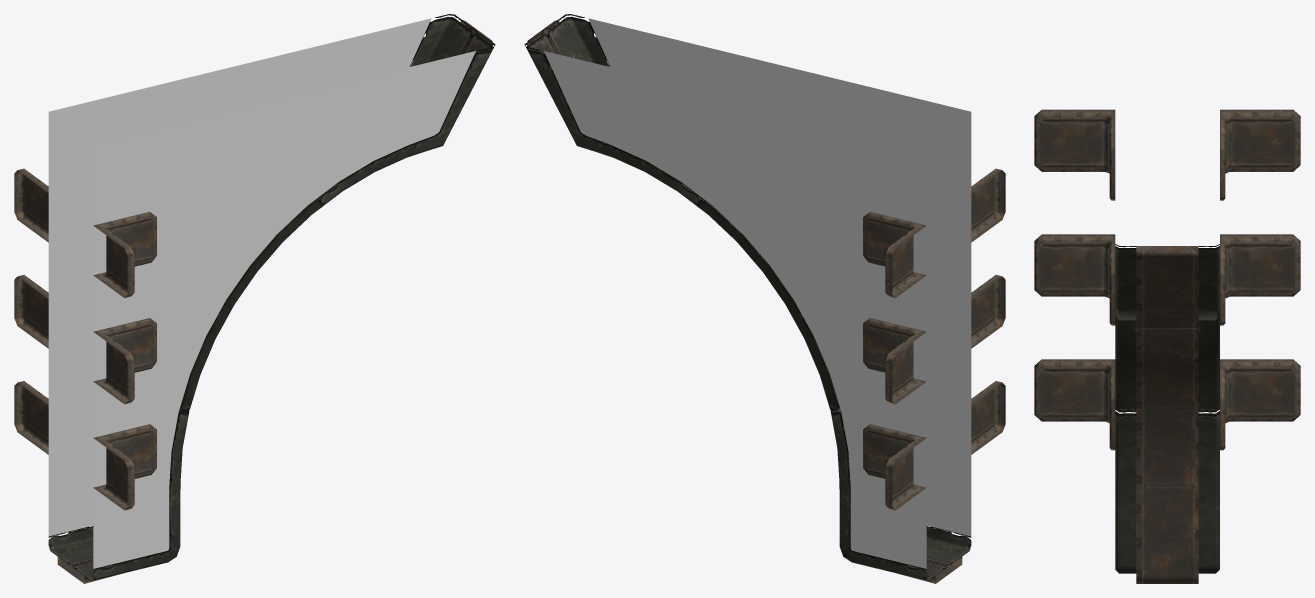
3 renders of one model, left to right at view 1: azimuth 30°, elevation 25°; view 2: azimuth 150°, elevation 25°; view 3: azimuth 270°, elevation 25°, orthographic. The views are drawn at different scales.
Visible parts, largest first — view 1: SM_Greathall_Ceiling_Support_01_LOD0; view 2: SM_Greathall_Ceiling_Support_01_LOD0; view 3: SM_Greathall_Ceiling_Support_01_LOD0.
Part boxes in pixels (x1,y1,x2,y2): SM_Greathall_Ceiling_Support_01_LOD0: (14, 14, 495, 583); SM_Greathall_Ceiling_Support_01_LOD0: (524, 14, 1005, 583); SM_Greathall_Ceiling_Support_01_LOD0: (1034, 109, 1300, 583).
Bounding box in the file's own units: 3.64 × 3.8 × 1.75.
Materials: 2 (1 with a texture image).
